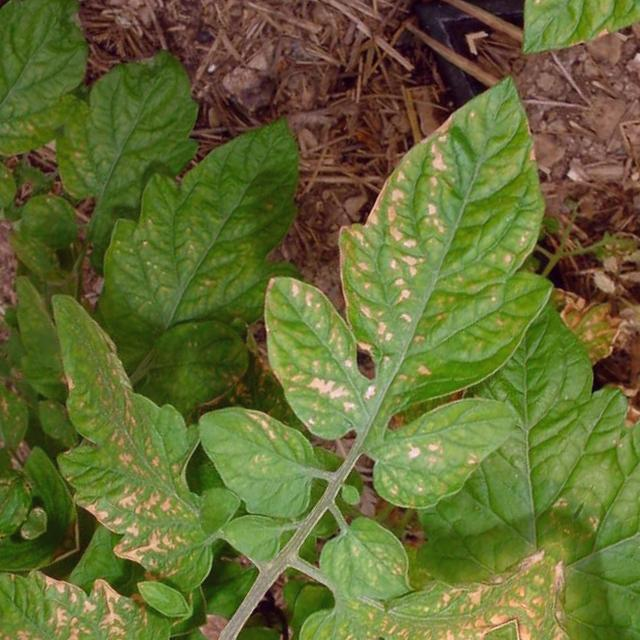Tomato leaf bacterial spot: (249, 27, 640, 468), (0, 285, 330, 619), (255, 426, 568, 640), (192, 247, 425, 470), (171, 369, 355, 541), (352, 357, 520, 539), (125, 559, 221, 626), (229, 629, 348, 640)
